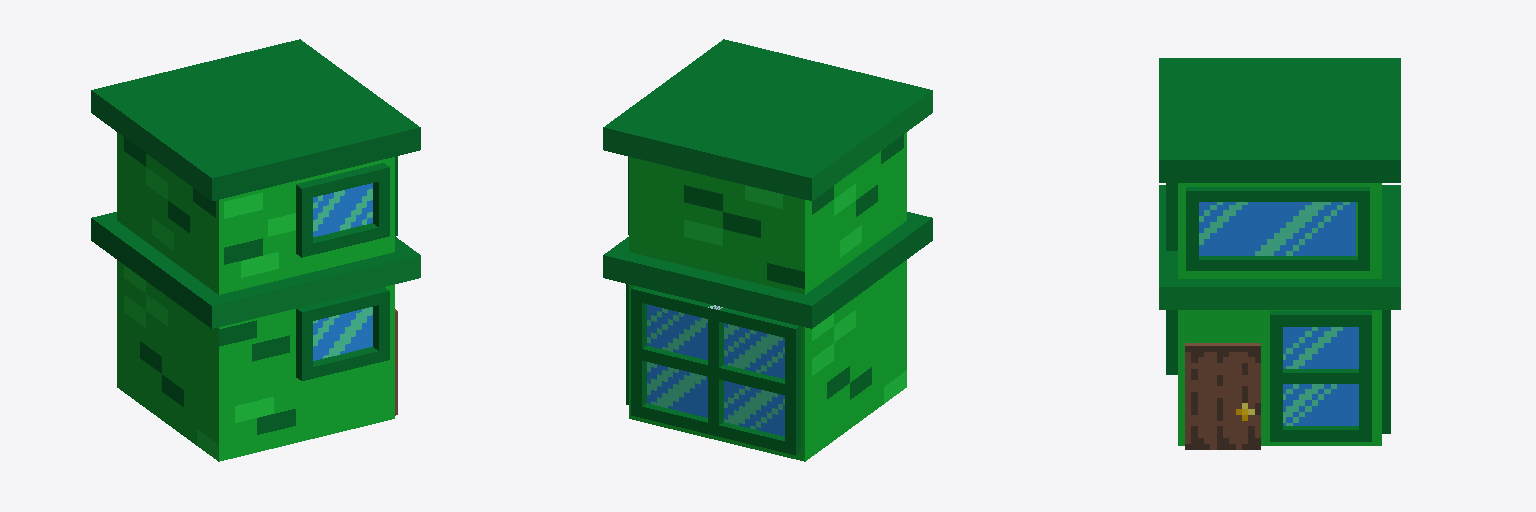
3 views of the same model, side by side, from view 1: azimuth 30°, elevation 25°; view 2: azimuth 150°, elevation 25°; view 3: azimuth 270°, elevation 25° (orthographic).
Parts seen in each view (by area): view 1: cube; view 2: cube; view 3: cube.
Part boxes in pixels (left/top/right/bottom): cube: left=91, top=39, right=420, bottom=461; cube: left=603, top=39, right=932, bottom=461; cube: left=1159, top=58, right=1400, bottom=449.
Size of the model in its own units: 2.38 by 3.2 by 2.38.
Materials: 1 (1 with a texture image).